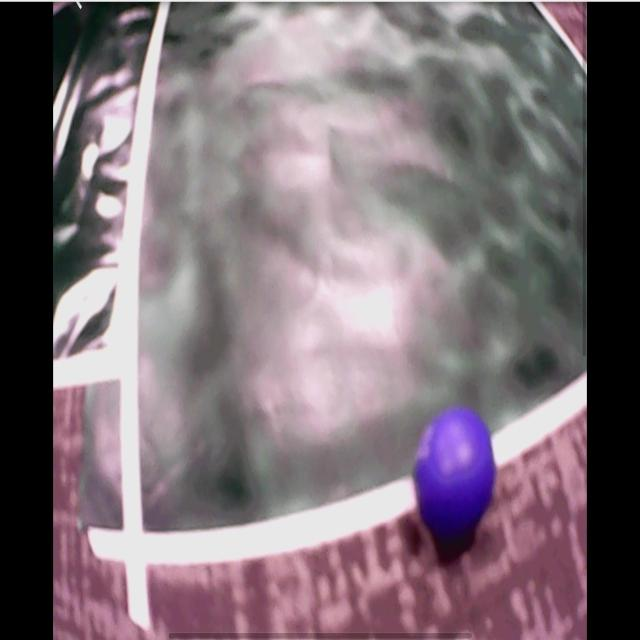ball: (414, 406, 495, 536)
